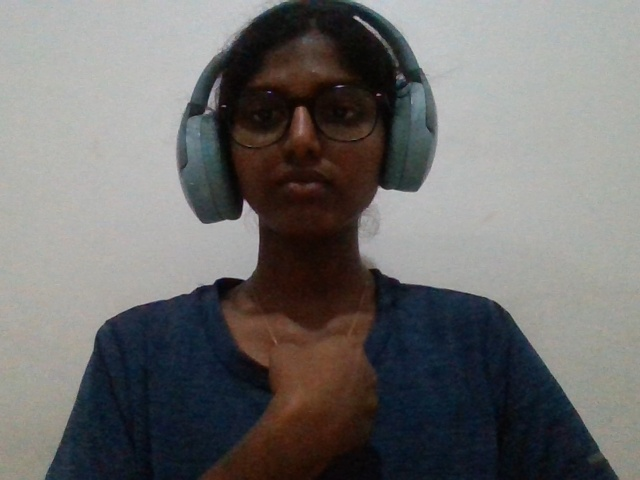Me: (221, 307, 401, 480)
